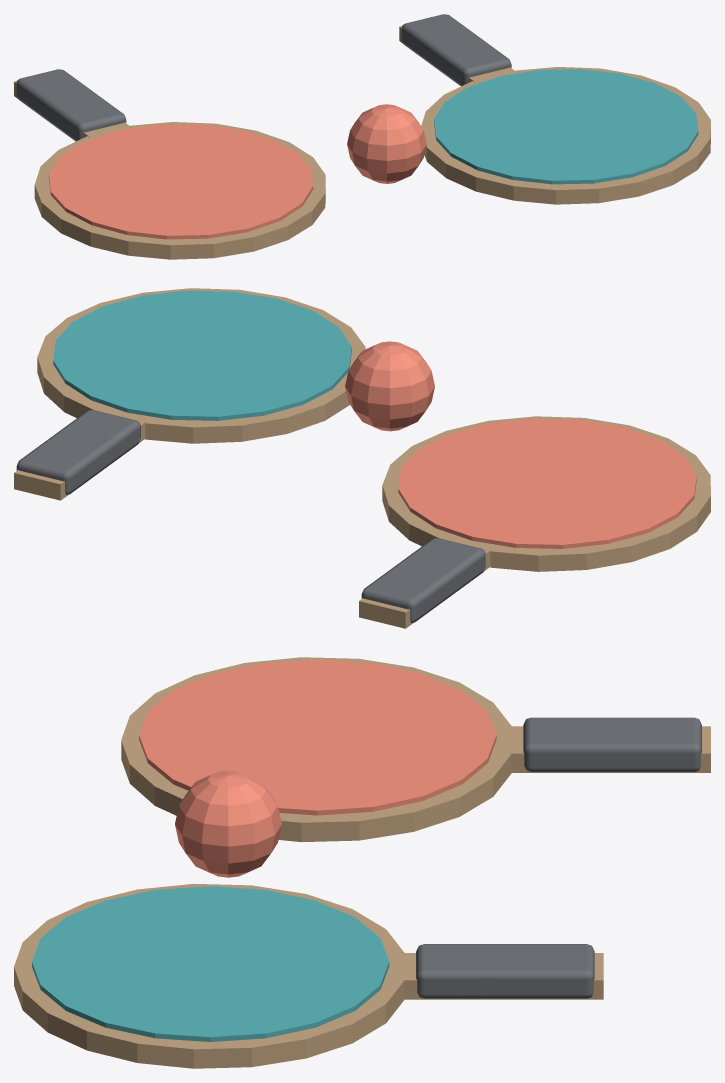
File: beach-surf-and-paddle-kit-beach-bats-and-ball-e424d9f9__39448.glb
3 views of the same model, one above another, from view 1: azimuth 30°, elevation 25°; view 2: azimuth 150°, elevation 25°; view 3: azimuth 270°, elevation 25° (orthographic). The views are drawn at different scales.
Parts seen in each view (by area): view 1: beach-bats-and-ball-coral, beach-bats-and-ball-teal, beach-bats-and-ball-timber, beach-bats-and-ball-charcoal; view 2: beach-bats-and-ball-coral, beach-bats-and-ball-teal, beach-bats-and-ball-timber, beach-bats-and-ball-charcoal; view 3: beach-bats-and-ball-coral, beach-bats-and-ball-teal, beach-bats-and-ball-timber, beach-bats-and-ball-charcoal.
Boxes of the visible parts, x1=… form: beach-bats-and-ball-coral: x1=48, y1=104, x2=426, y2=239; beach-bats-and-ball-teal: x1=434, y1=69, x2=698, y2=184; beach-bats-and-ball-timber: x1=14, y1=26, x2=710, y2=259; beach-bats-and-ball-charcoal: x1=16, y1=14, x2=511, y2=141; beach-bats-and-ball-coral: x1=345, y1=341, x2=696, y2=548; beach-bats-and-ball-teal: x1=53, y1=290, x2=351, y2=420; beach-bats-and-ball-timber: x1=14, y1=288, x2=710, y2=628; beach-bats-and-ball-charcoal: x1=16, y1=410, x2=485, y2=622; beach-bats-and-ball-coral: x1=139, y1=659, x2=496, y2=877; beach-bats-and-ball-teal: x1=32, y1=886, x2=389, y2=1041; beach-bats-and-ball-timber: x1=14, y1=657, x2=710, y2=1068; beach-bats-and-ball-charcoal: x1=416, y1=717, x2=701, y2=998.
Size of the model in its own units: 0.5192 by 0.06 by 0.39.
